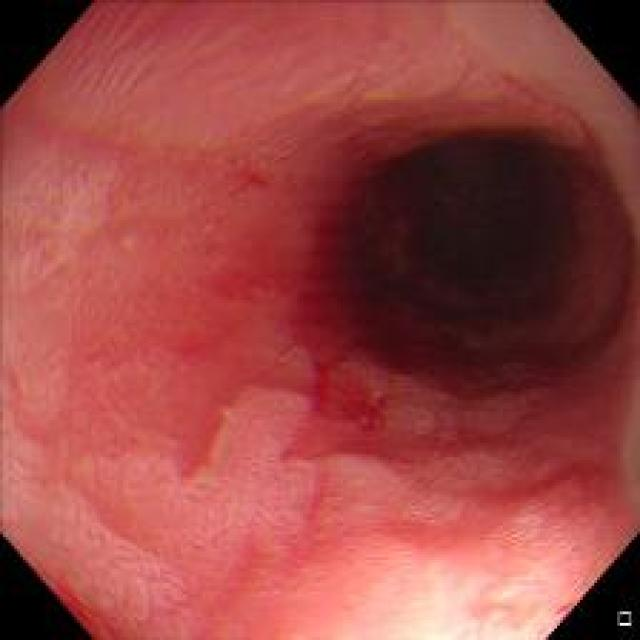contrast: (351, 108, 616, 374)
saturation: (358, 555, 549, 632)
